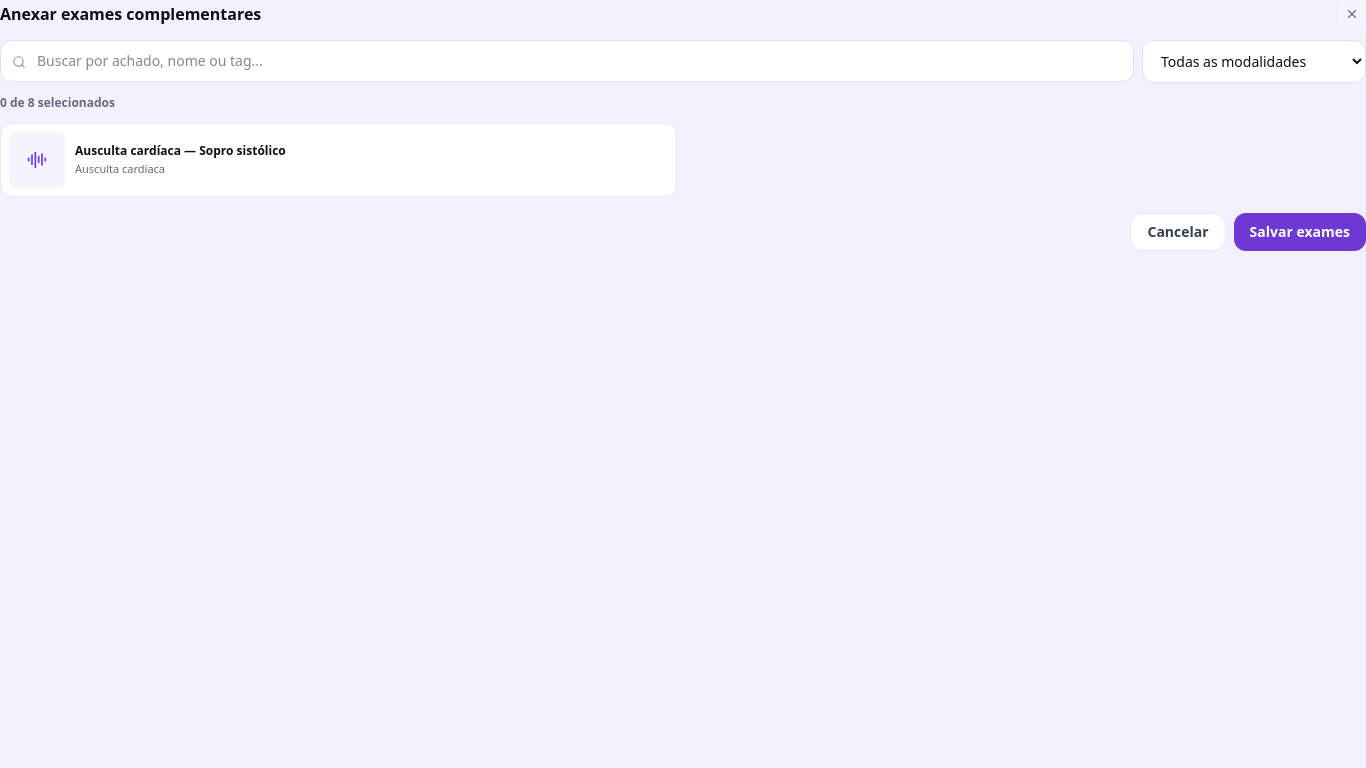
Test: ExamPicker (T11) › T11.8 — asset de áudio abre um player, e a miniatura não é imagem
Expected: the text "Ausculta cardíaca — Sopro sistólico" is shown, [75, 142, 286, 159]
Click the button named "Ouvir".
click(37, 160)  # box [9, 132, 65, 188]
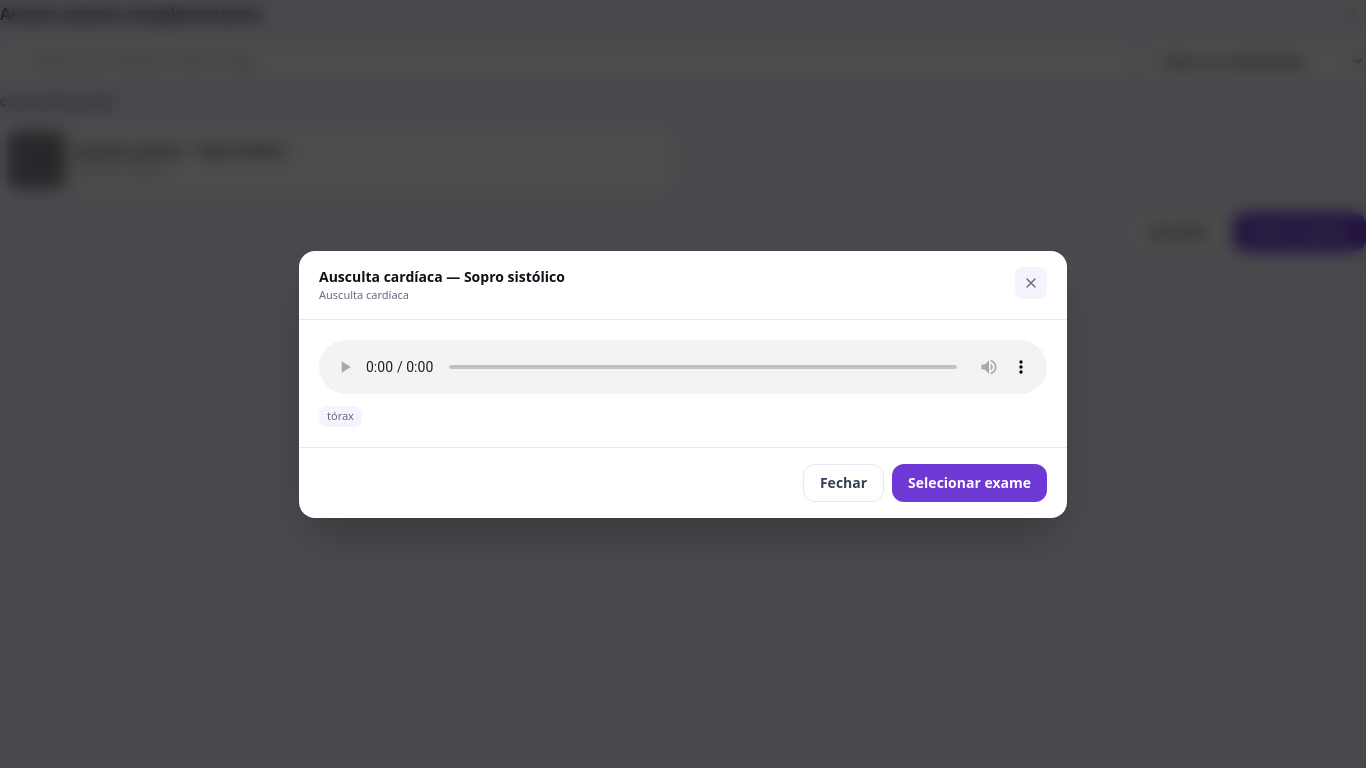
Expected: the element named "Ausculta cardíaca — Sopro sistólico" is shown, [319, 340, 1047, 394]
